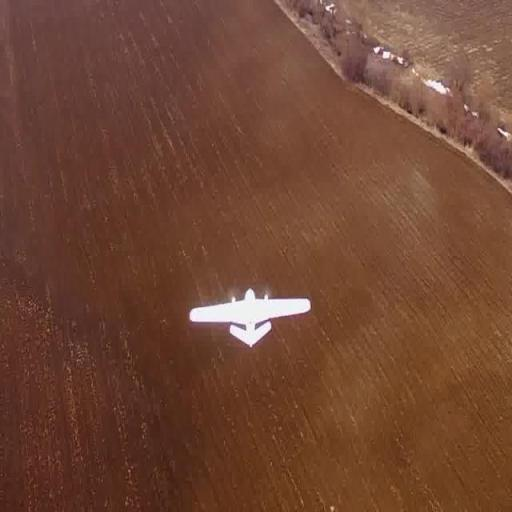uav: (182, 282, 312, 354)
